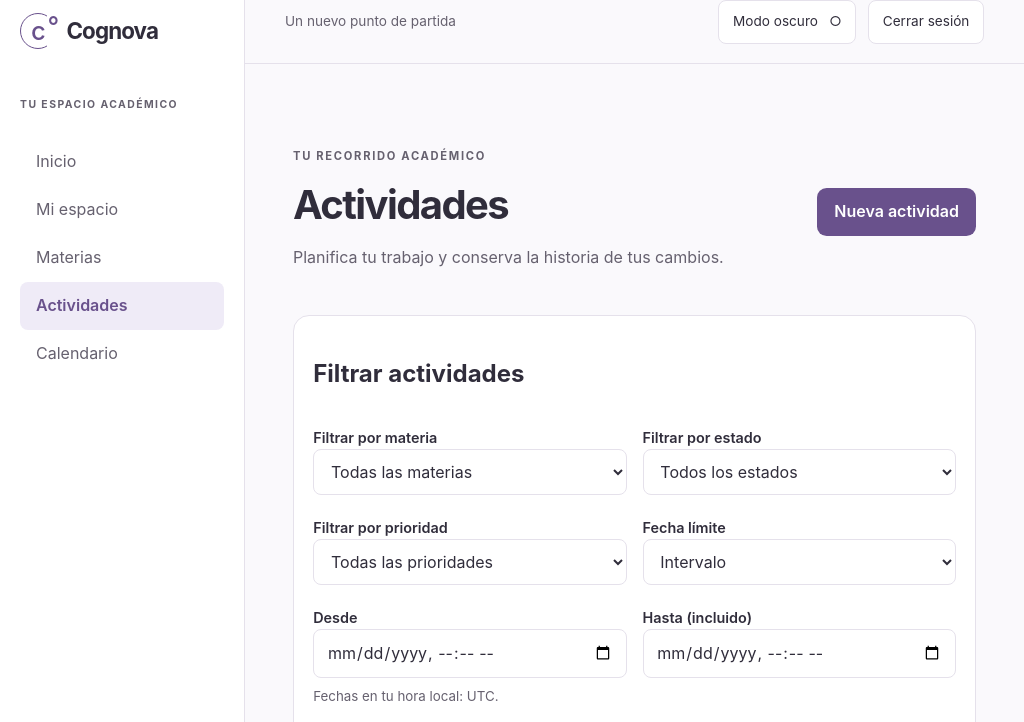
Test: Activities authenticated views › rejects reversed filter ranges without requests
Type "2030-02-01T00:00" into the field labelled "Desde" at (470, 653), box [313,629,626,678]
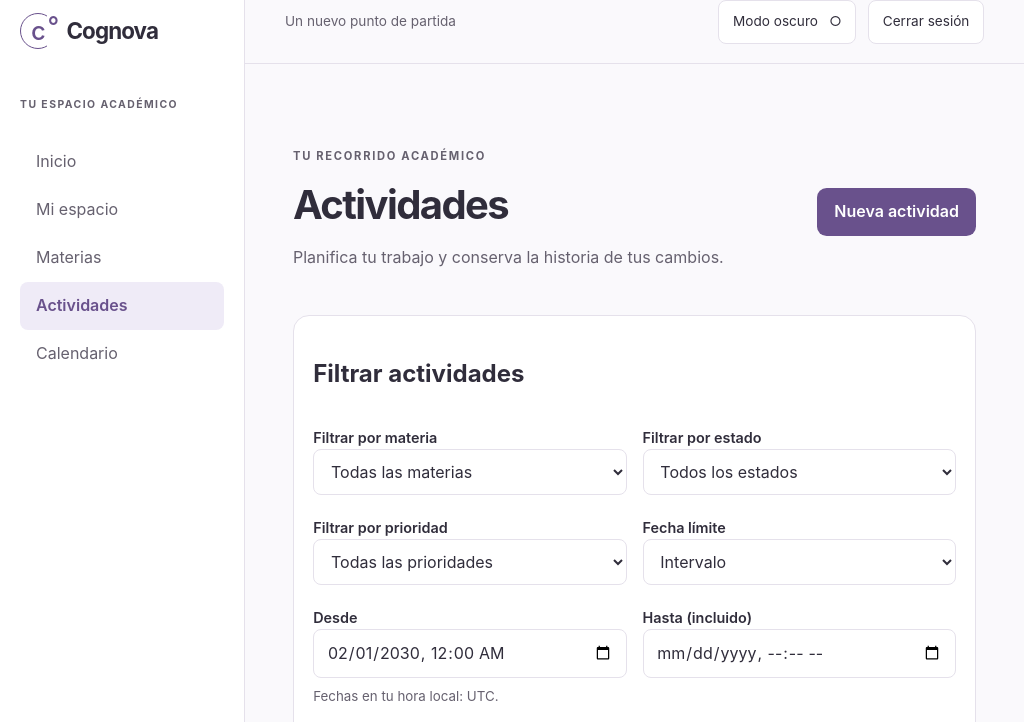
Type "2030-01-01T00:00" into the field labelled "Hasta (incluido)" at (799, 653), box [642,629,956,678]
(page scrolled)
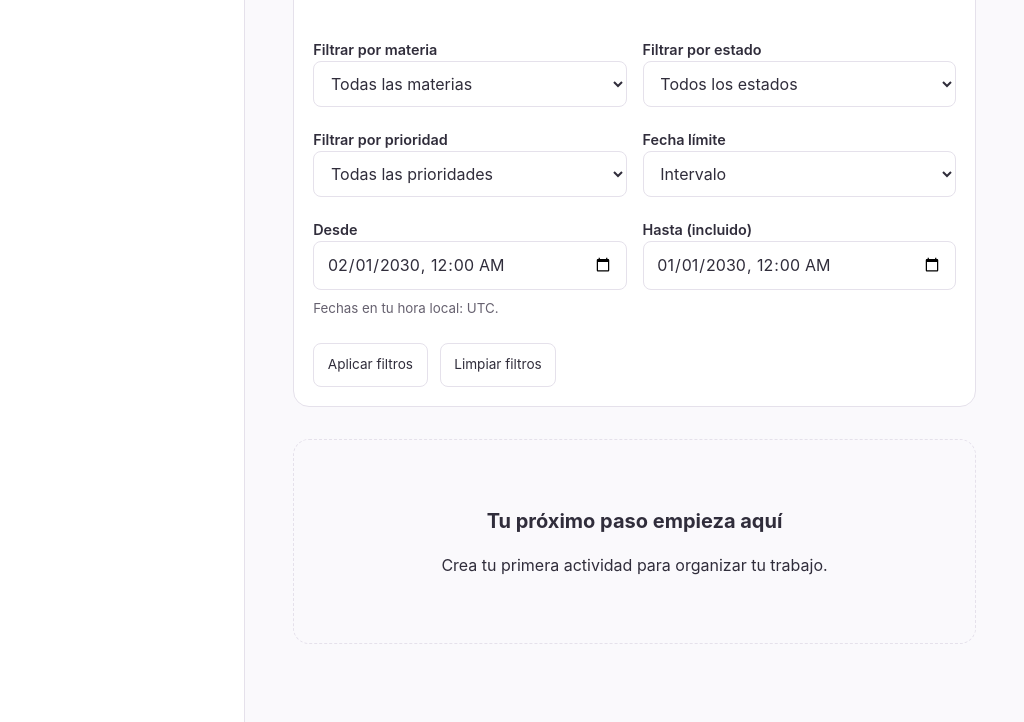
Click the button "Aplicar filtros" at (370, 365), box [313,343,428,387]
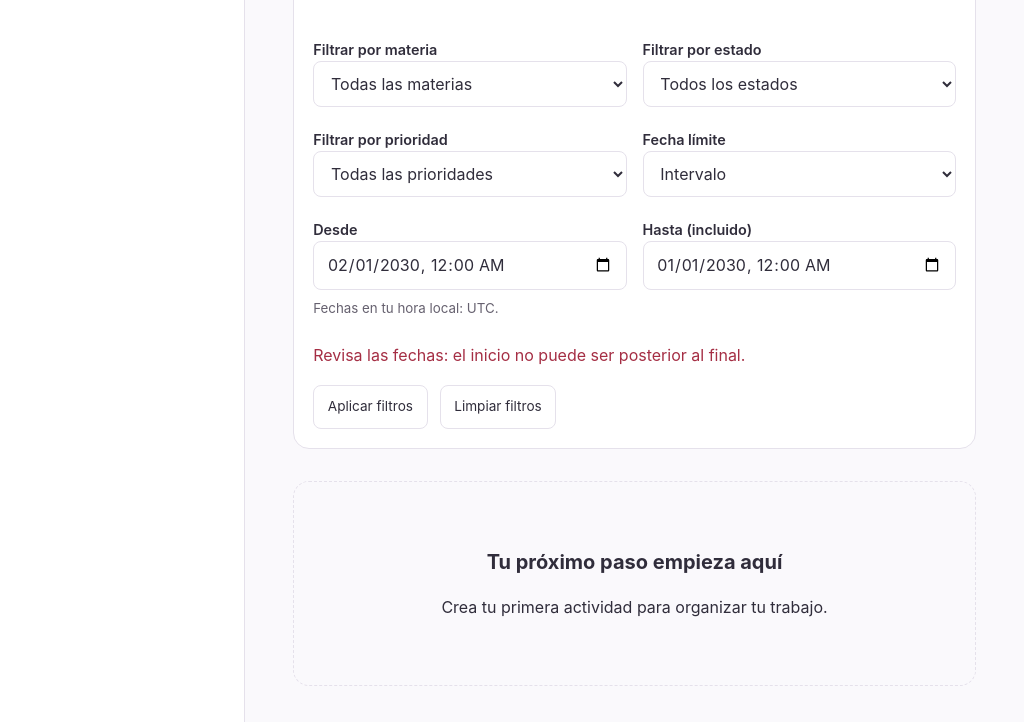
Now the message shows "inicio", box [313,345,745,365]
